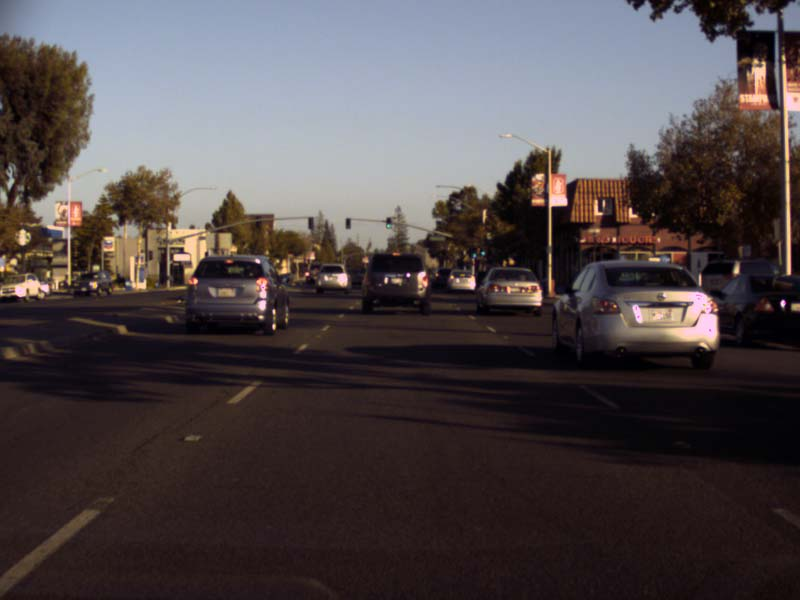Green: (386, 217, 391, 228), (470, 247, 475, 257), (345, 218, 350, 228), (480, 249, 487, 255)
